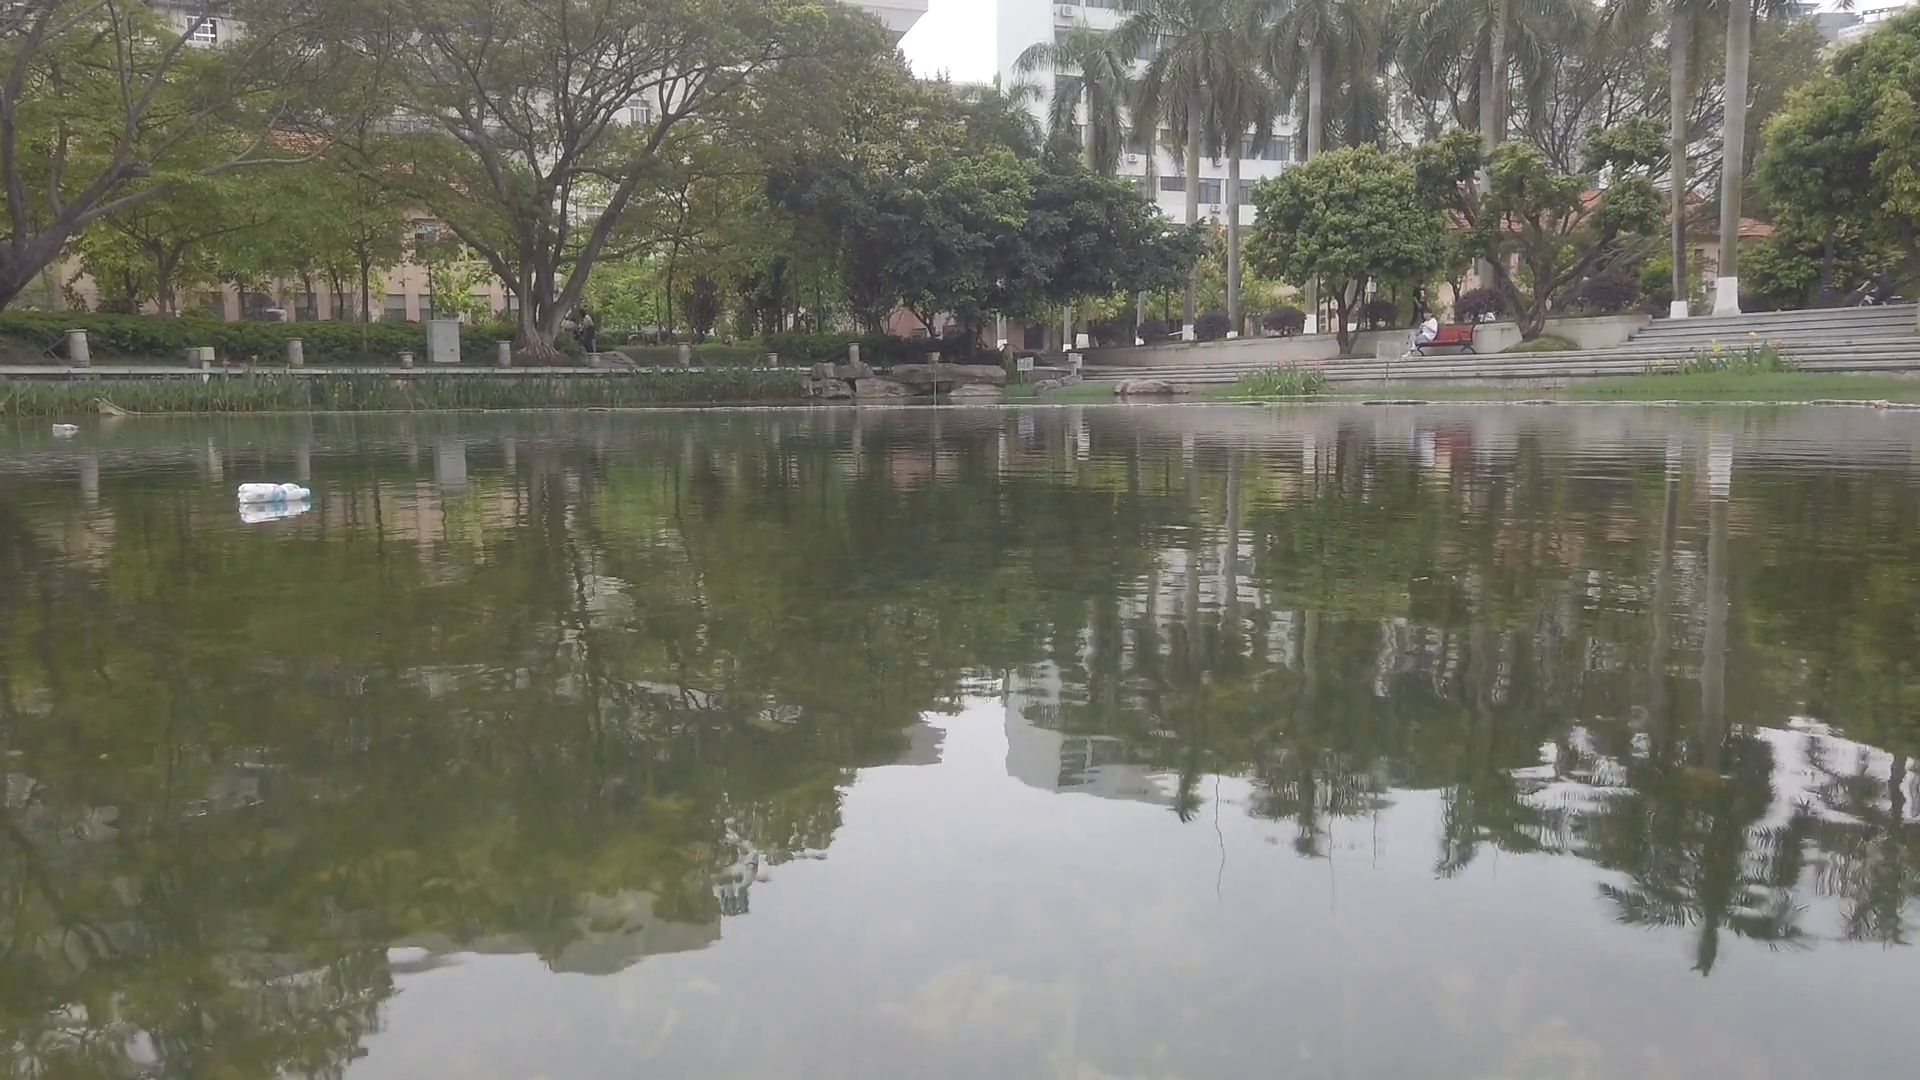bottle: (239, 483, 309, 506), (53, 422, 83, 433)
